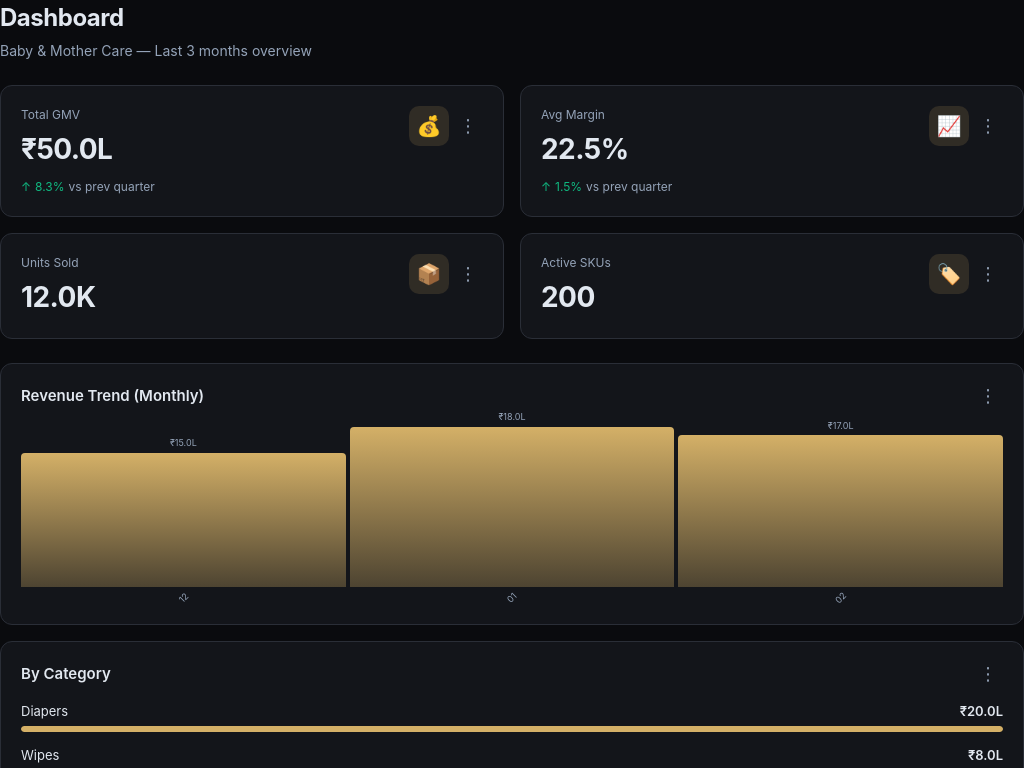
Test: Dashboard page › shows fallback actions when getCardActions API fails
Expected: the text "Total GMV" is shown, [21,107,80,122]
Click the button titled "Options" in the row of "₹50.0L" at (468, 126), box [453,115,483,137]
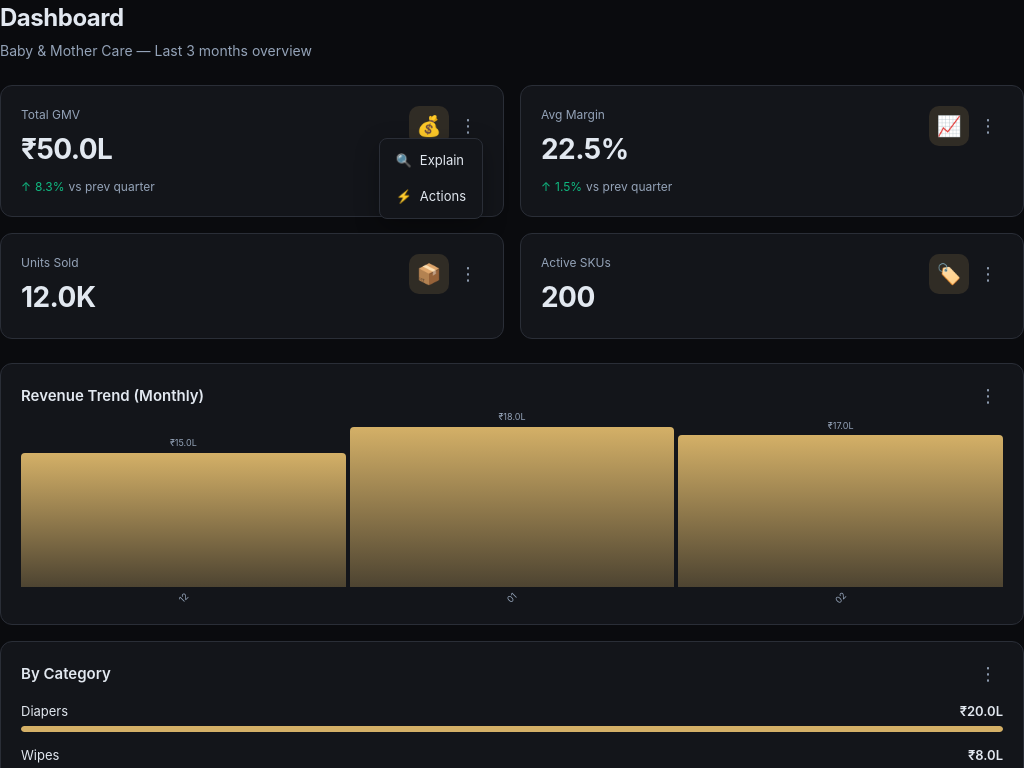
Expected: the element with class "explain-dropdown" is shown, [379,138,483,219]
Click the button "⚡ Actions" at (431, 196), box [384,178,478,214]
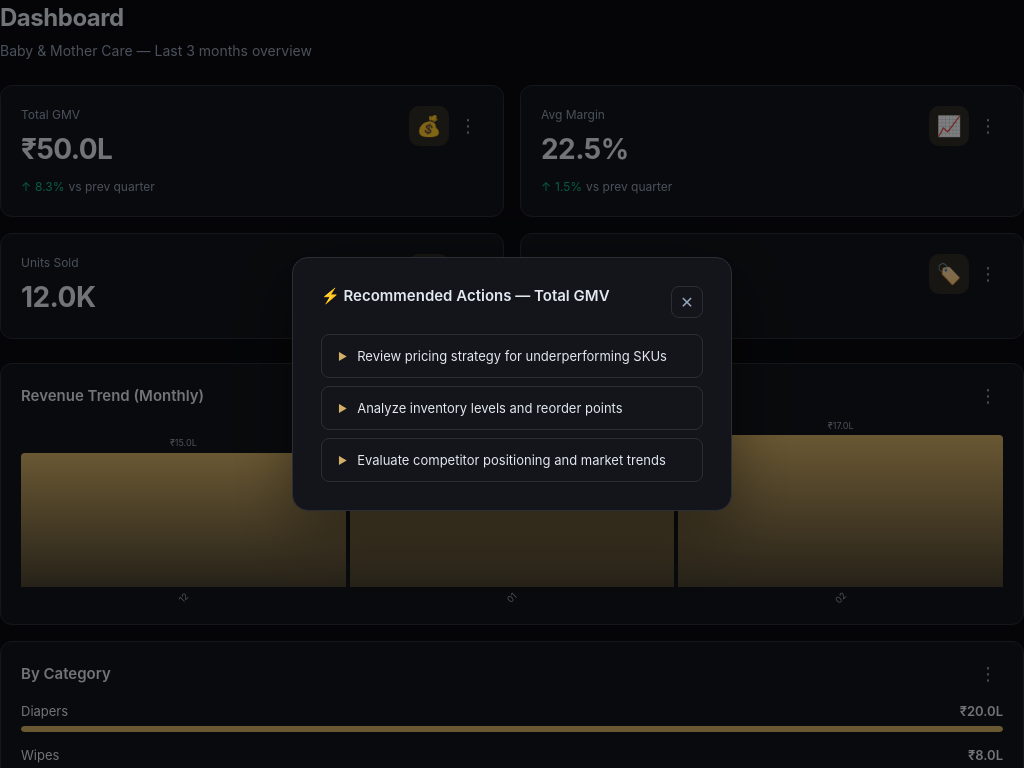
Expected: the text "Review pricing strategy for underperforming SKUs" is shown, [357,347,686,365]
